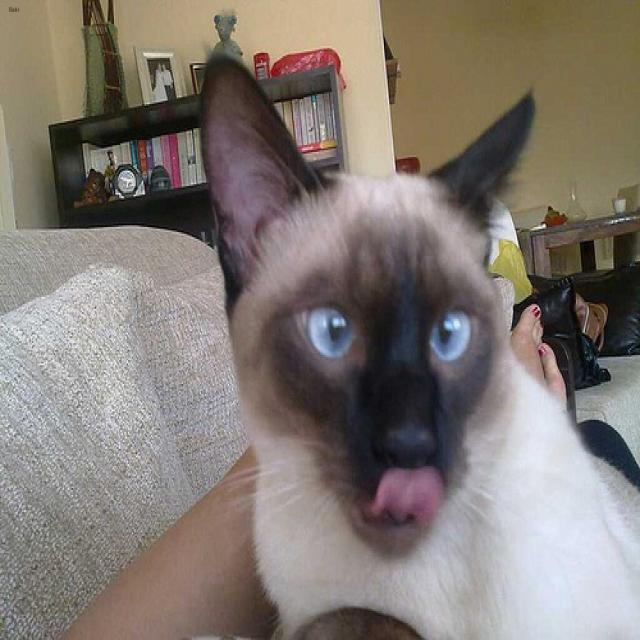Siamese: (199, 49, 539, 555)
